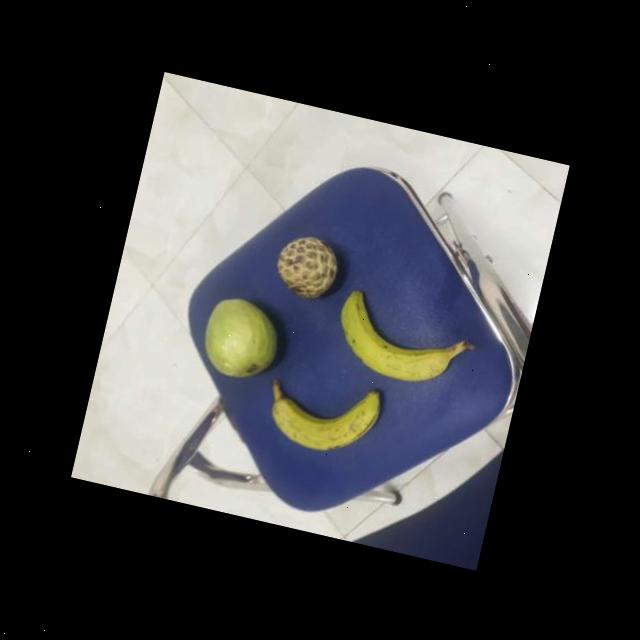Sakya fruit: (271, 226, 345, 302)
banana: (328, 284, 464, 390), (260, 360, 383, 461)
guava: (194, 288, 288, 386)
